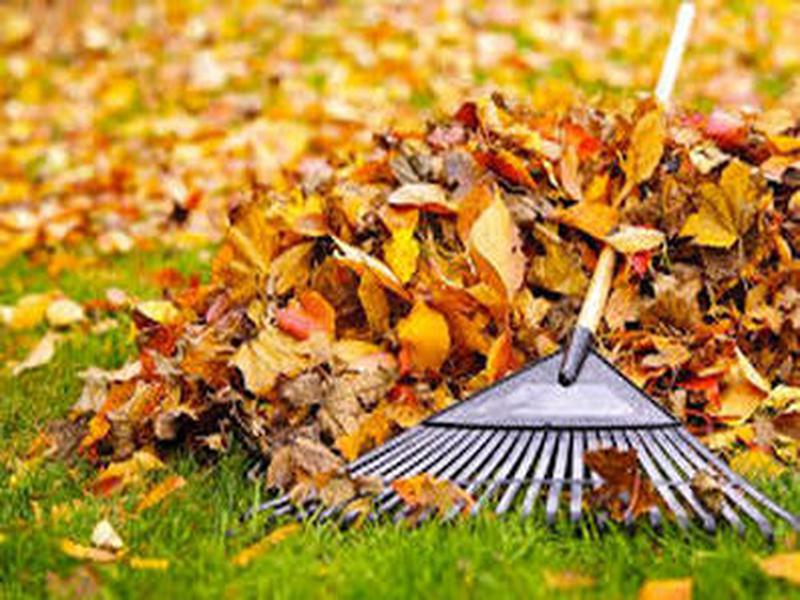leaf: (664, 280, 800, 421), (483, 101, 603, 199), (679, 156, 784, 258), (378, 288, 477, 383), (468, 182, 531, 306), (619, 110, 674, 191), (382, 173, 466, 226), (275, 293, 340, 340)
